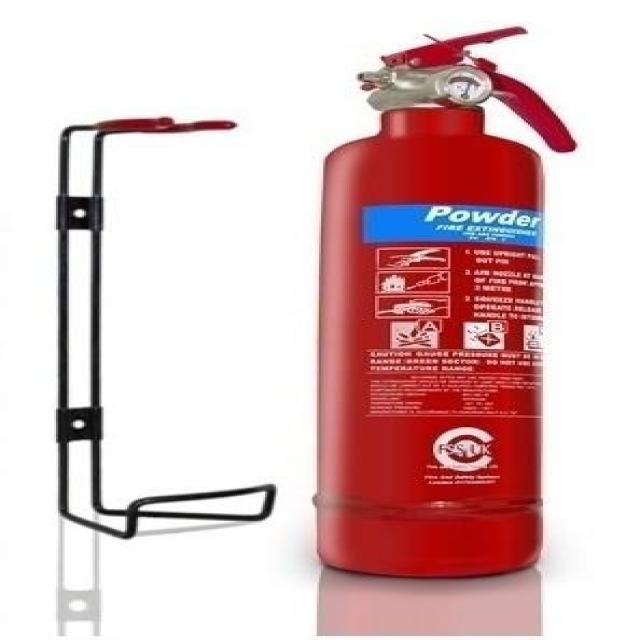fire_extinguisher: (303, 20, 583, 582)
